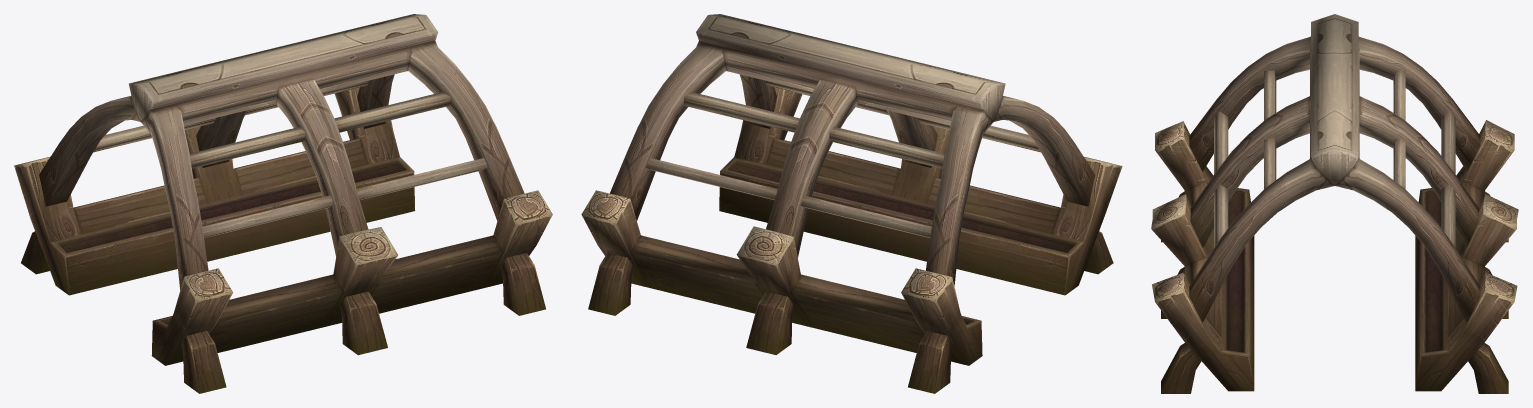
The picture shows the model from 3 angles, left to right: view 1: azimuth 30°, elevation 25°; view 2: azimuth 150°, elevation 25°; view 3: azimuth 270°, elevation 25°; orthographic projection. The views are drawn at different scales.
Bounding box in the file's own units: 17.96 × 11.39 × 16.5.
1 material, 1 textured.
